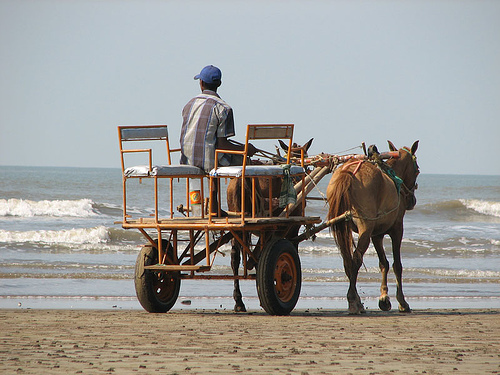horse: (225, 134, 318, 316), (324, 139, 420, 315)
